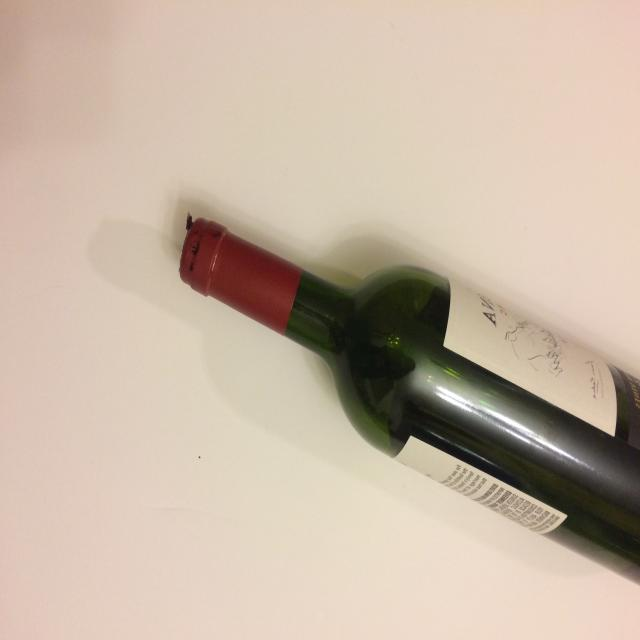glass: (165, 164, 640, 612)
